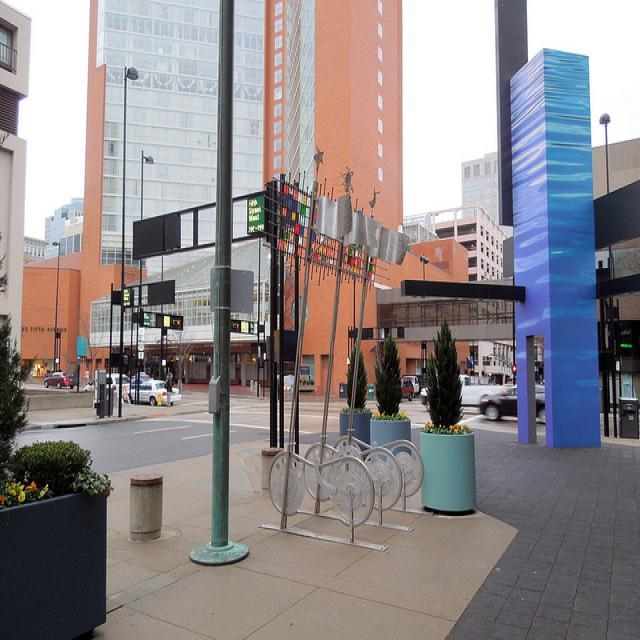fire_hydrant: (157, 392, 161, 405)
